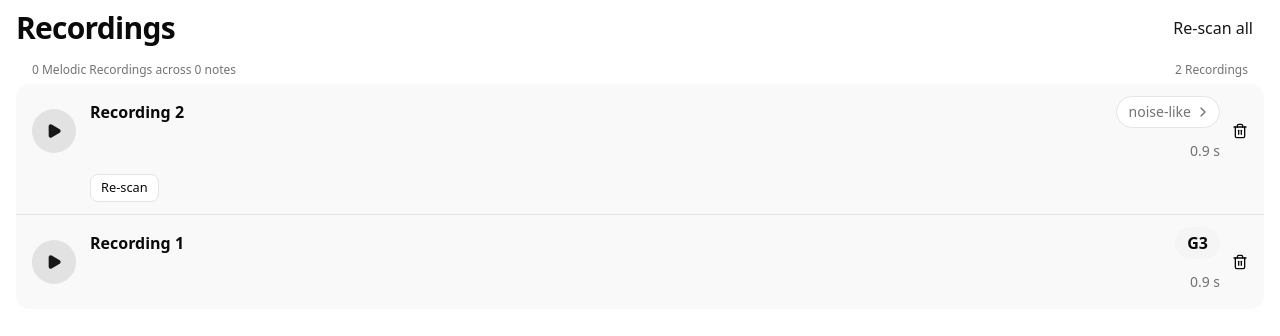
Test: Re-scan on the Recordings tab › re-scans one Recording, then says when it found nothing new
Click the button "Re-scan": [124, 188] box [90,174,159,202]
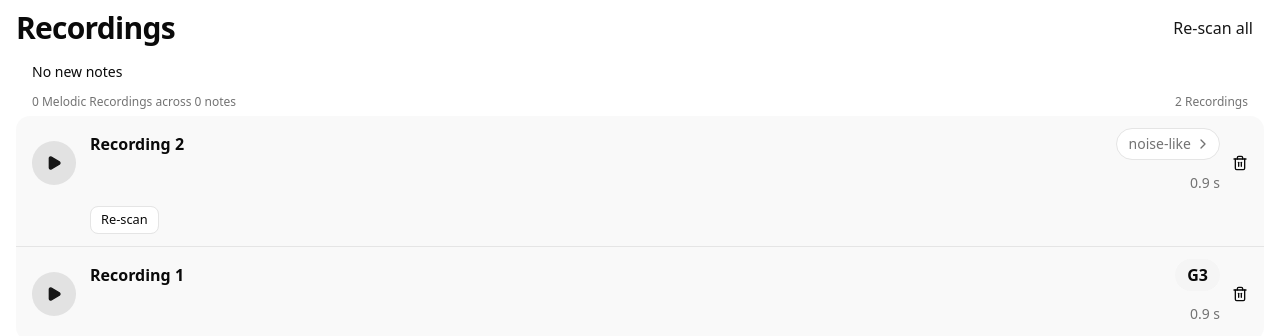
expect the text "No new notes" is shown: met, box [32,62,122,81]
